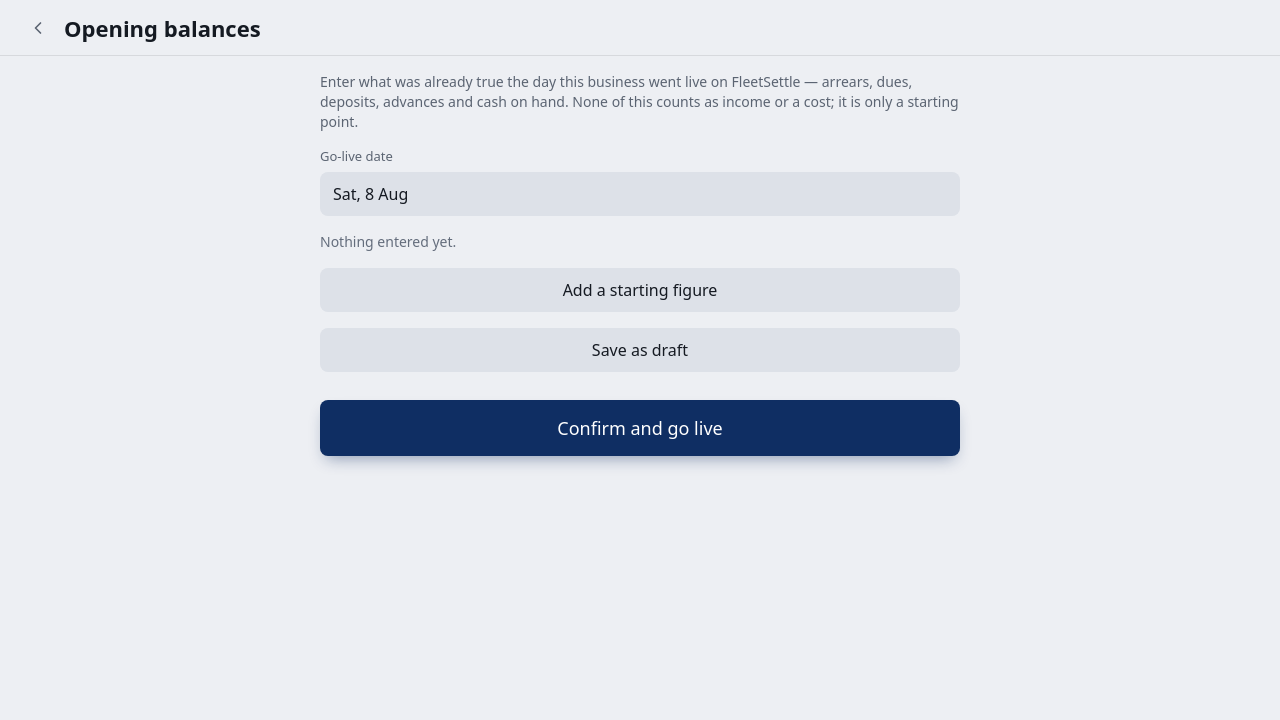
Test case: a closed first period shows the lock explanation, not a raw error
Expected: the text "Nothing entered yet." is shown, [320,232,456,251]
What coordinates should you click on to do the following:
click the button "Save as draft"
I would click on:
 (640, 350)
Its box is [320,328,960,372].
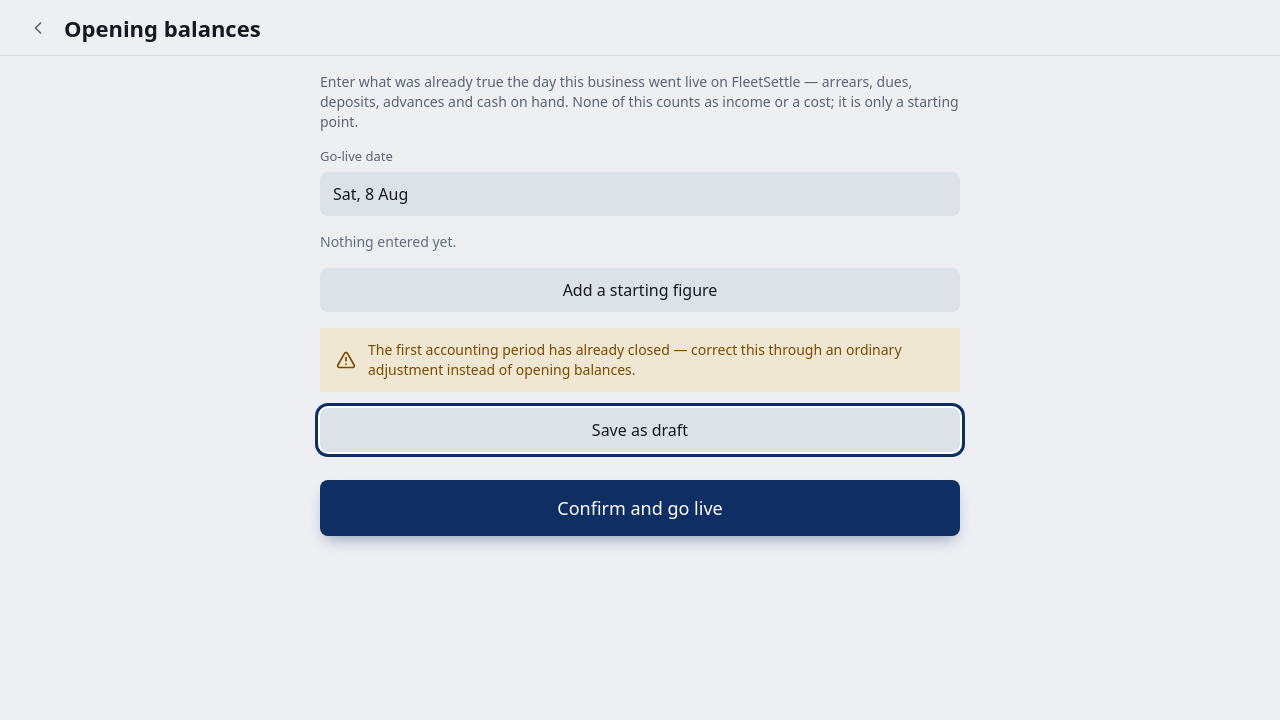
Result: the text "The first accounting period has already closed" is shown at [368,340,902,379]
